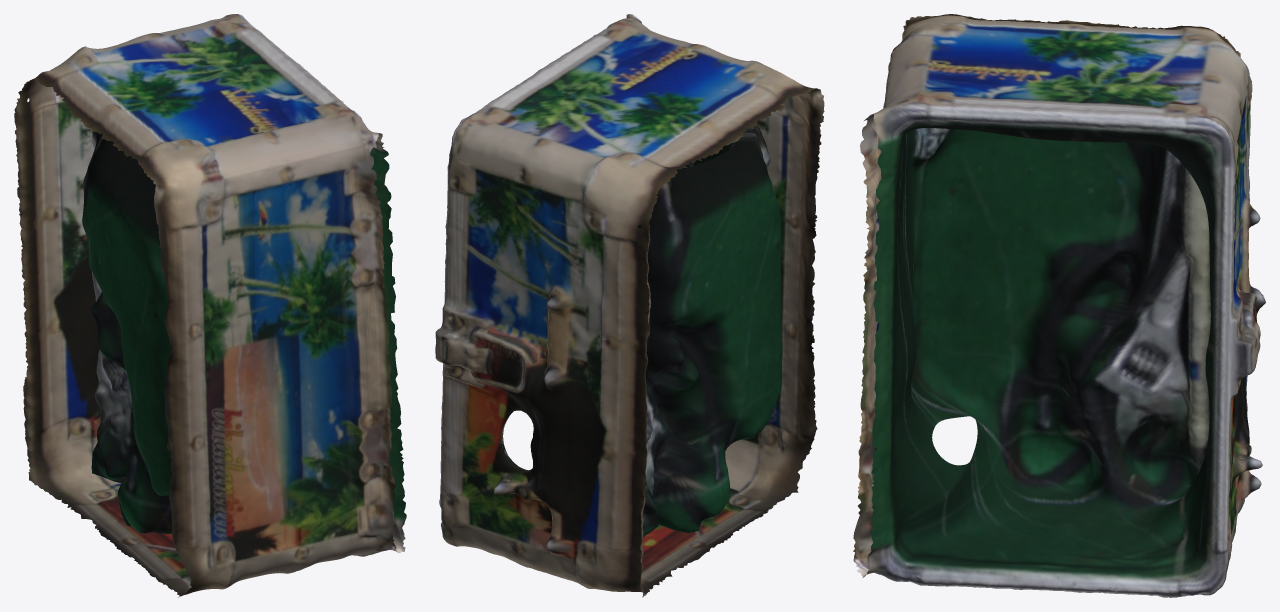
File: treasurebox_base.obj
The picture shows the model from 3 angles, left to right: view 1: azimuth 30°, elevation 25°; view 2: azimuth 150°, elevation 25°; view 3: azimuth 270°, elevation 25°; orthographic projection. The views are drawn at different scales.
Size of the model in its own units: 0.1051 by 0.1842 by 0.1424.
2 materials, 1 textured.
